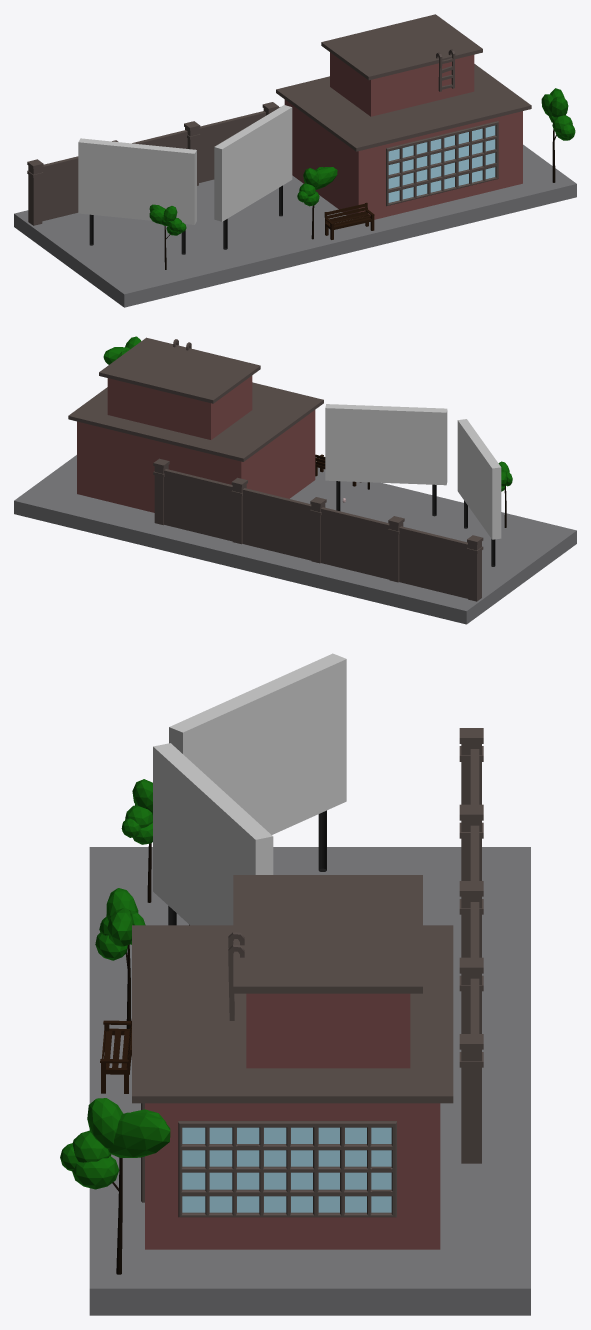
The model's file is Block_11.fbx.
The picture shows the model from 3 angles, top to bottom: view 1: azimuth 30°, elevation 25°; view 2: azimuth 150°, elevation 25°; view 3: azimuth 270°, elevation 25°; orthographic projection. The views are drawn at different scales.
Visible parts, largest first — view 1: polySurface446, Block_5:polySurface159polySurface191__1_, Block_5:polySurface159polySurface188__1_, Billboard2, Block_5:polySurface159polySurface190__1_, Billboard1, polySurface458, polySurface452, Tree1, Bench, Tree1__1_, polySurface456 (+4 smaller); view 2: polySurface446, Block_5:polySurface159polySurface191__1_, Block_5:polySurface159polySurface188__1_, Billboard1, polySurface452, Billboard2, polySurface449, polySurface458, polySurface453, polySurface456, polySurface450, polySurface459 (+3 smaller); view 3: polySurface446, Block_5:polySurface159polySurface191__1_, Block_5:polySurface159polySurface188__1_, Block_5:polySurface159polySurface190__2_, Billboard2, Billboard1, Tree1, polySurface454, Tree1__1_, Tree1__2_, Bench, polySurface450 (+3 smaller).
Boxes of the visible parts, x1,y1,x2,y2 form: polySurface446: (14,144,576,307); Block_5:polySurface159polySurface191__1_: (276,64,531,219); Block_5:polySurface159polySurface188__1_: (321,14,482,116); Billboard2: (78,138,196,254); Block_5:polySurface159polySurface190__1_: (386,121,498,206); Billboard1: (214,105,292,249); polySurface458: (42,156,78,221); polySurface452: (199,111,265,182); Tree1: (541,88,575,182); Bench: (324,202,374,239); Tree1__1_: (297,167,337,239); polySurface456: (27,159,43,225); polySurface446: (14,455,576,624); Block_5:polySurface159polySurface191__1_: (68,382,323,512); Block_5:polySurface159polySurface188__1_: (99,337,260,439); Billboard1: (325,404,447,516); polySurface452: (242,488,311,560); Billboard2: (457,419,501,566); polySurface449: (321,507,389,579); polySurface458: (399,526,467,598); polySurface453: (164,469,232,541); polySurface456: (466,535,483,601); polySurface450: (388,516,404,582); polySurface459: (231,477,247,544); polySurface446: (89,847,530,1315); Block_5:polySurface159polySurface191__1_: (132,925,453,1249); Block_5:polySurface159polySurface188__1_: (233,875,422,1068); Block_5:polySurface159polySurface190__2_: (178,1121,396,1217); Billboard2: (169,653,346,925); Billboard1: (153,743,273,925); Tree1: (60,1098,170,1274); polySurface454: (459,1034,483,1163); Tree1__1_: (95,888,145,1028); Tree1__2_: (121,779,152,902); Bench: (100,1019,131,1093); polySurface450: (459,804,483,880).
Bounding box in the file's own units: 713 × 212 × 320.
